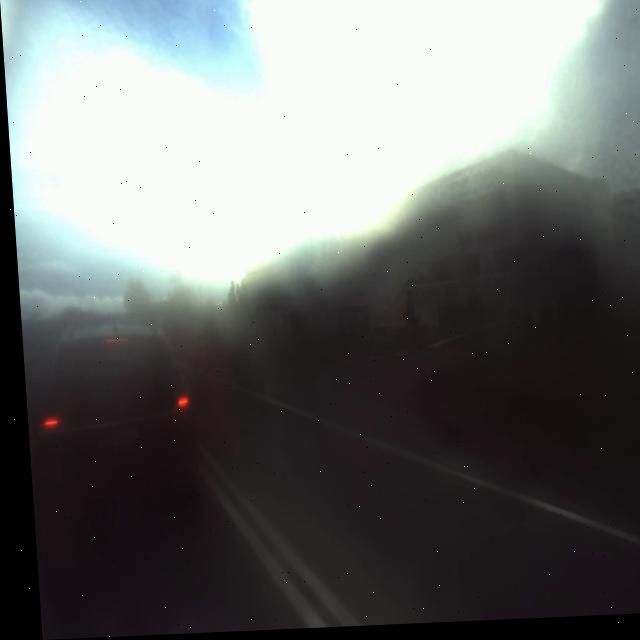car: (27, 303, 195, 520)
